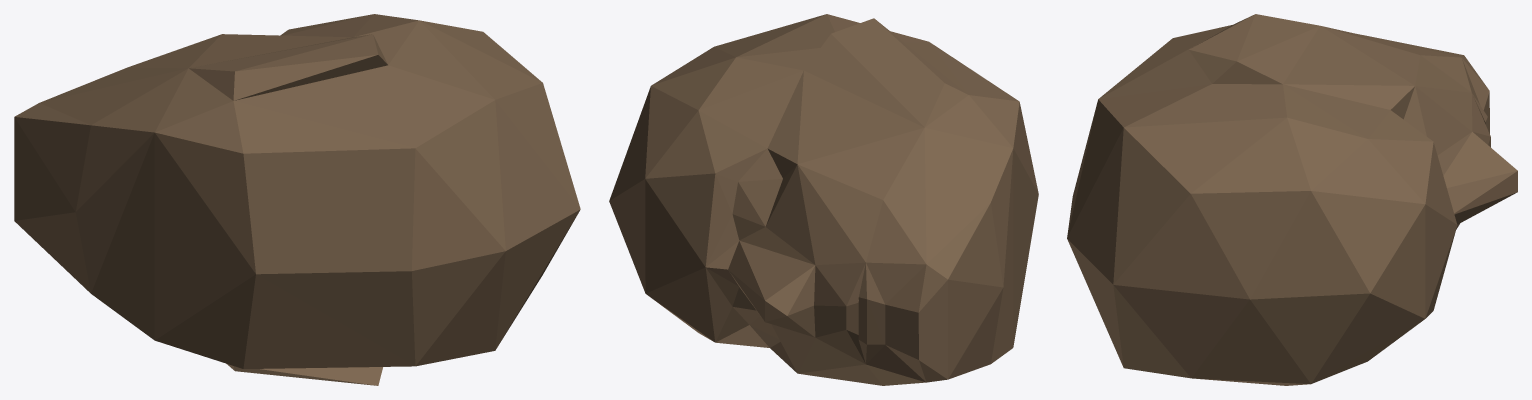
File: HUM_HEAD_THOMAS.OBJ
The picture shows the model from 3 angles, left to right: view 1: azimuth 30°, elevation 25°; view 2: azimuth 150°, elevation 25°; view 3: azimuth 270°, elevation 25°; orthographic projection. The views are drawn at different scales.
Visible parts, largest first — view 1: HUM_HEAD_THOMAS; view 2: HUM_HEAD_THOMAS; view 3: HUM_HEAD_THOMAS.
Boxes of the visible parts, x1=… form: HUM_HEAD_THOMAS: x1=14, y1=14, x2=580, y2=385; HUM_HEAD_THOMAS: x1=609, y1=14, x2=1038, y2=385; HUM_HEAD_THOMAS: x1=1067, y1=14, x2=1517, y2=385.
Size of the model in its own units: 0.2319 by 0.1769 by 0.2276.
